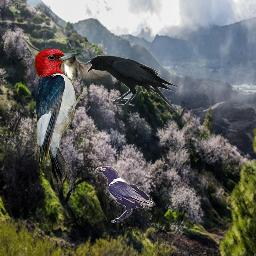Crow: (84, 55, 178, 107), (95, 166, 156, 223)
Swallow: (20, 35, 120, 95)
Woodpecker: (31, 49, 90, 192)
